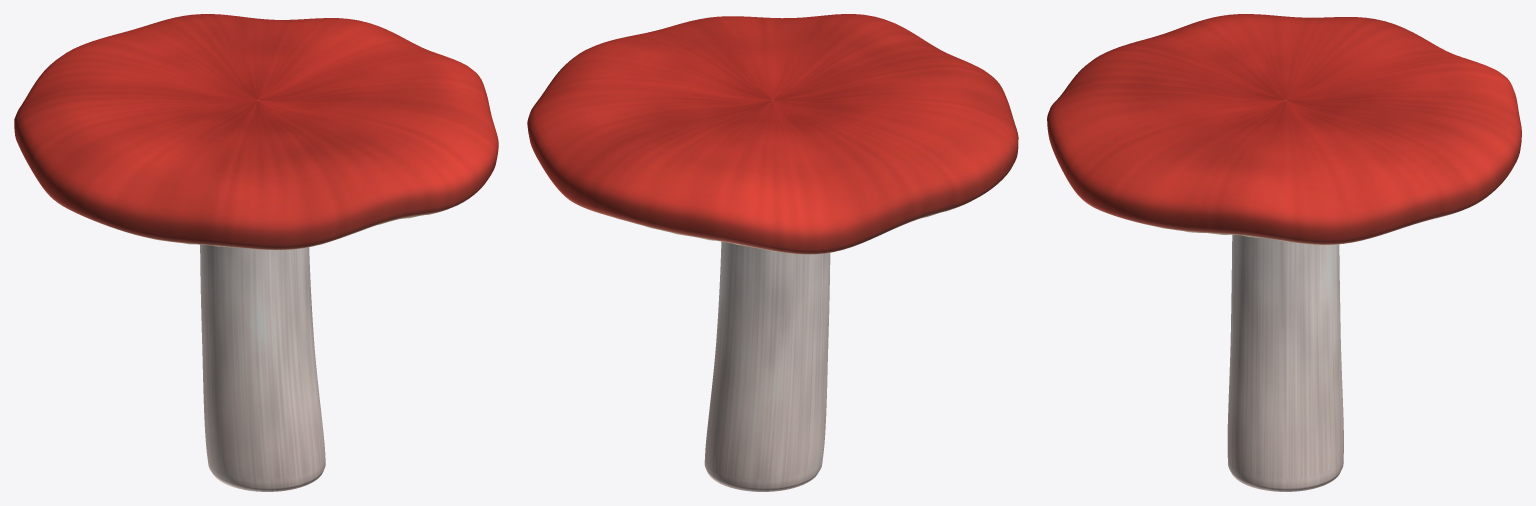
Rendered from russula-paludosa-drawn.glb.
The picture shows the model from 3 angles, left to right: view 1: azimuth 30°, elevation 25°; view 2: azimuth 150°, elevation 25°; view 3: azimuth 270°, elevation 25°; orthographic projection.
Bounding box in the file's own units: 0.9269 × 0.7962 × 0.916.
Materials: 1 (1 with a texture image).
